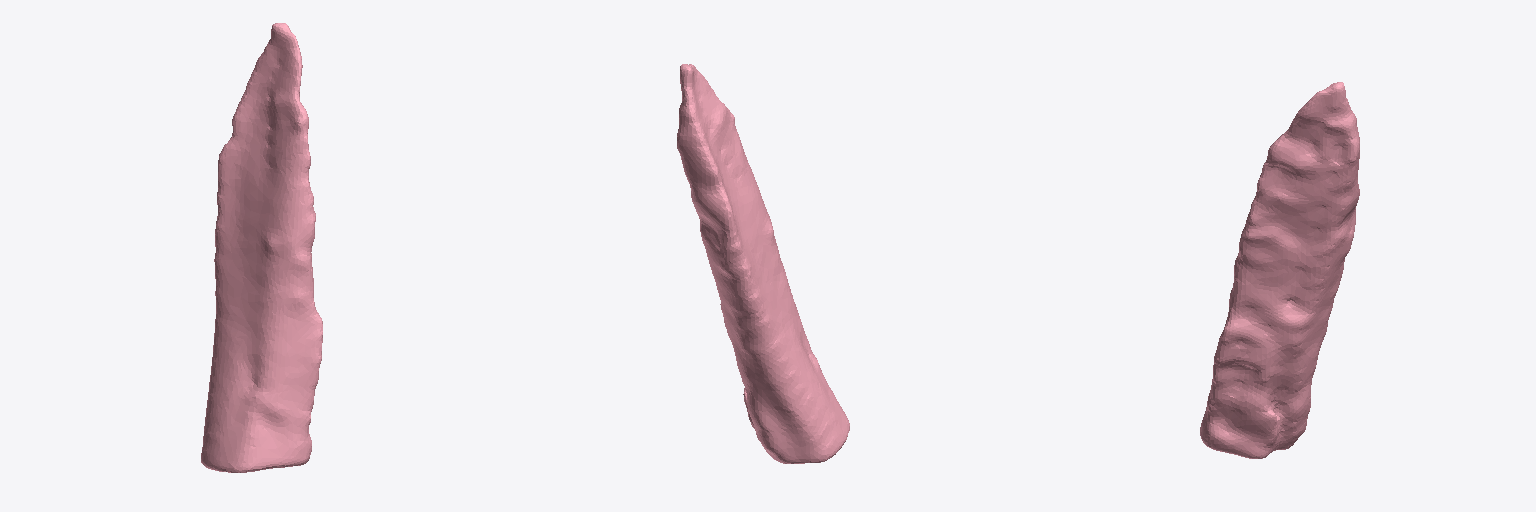
File: 腰大肌.obj
3 renders of one model, left to right at view 1: azimuth 30°, elevation 25°; view 2: azimuth 150°, elevation 25°; view 3: azimuth 270°, elevation 25°, orthographic.
Size of the model in its own units: 41.55 by 132 by 48.04.